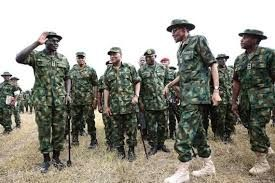gun: (134, 103, 152, 161), (64, 93, 77, 167)
uniform: (169, 18, 211, 164), (230, 29, 272, 162), (26, 43, 69, 158), (136, 54, 170, 154), (98, 57, 133, 146), (68, 62, 95, 140), (210, 56, 235, 137), (1, 77, 17, 133)
